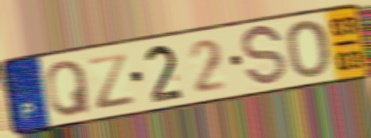2: (144, 42, 185, 105), (188, 36, 229, 96)
O: (285, 18, 332, 80)
Q: (44, 58, 94, 119)
S: (240, 22, 289, 90)
Z: (85, 50, 138, 112)
